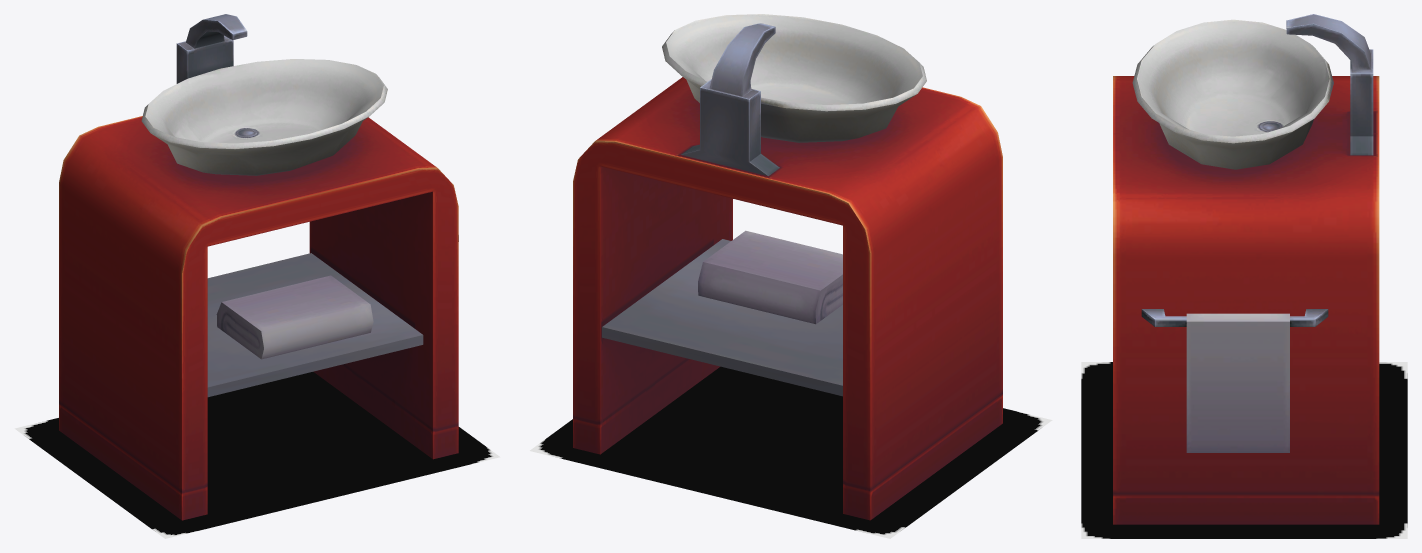
File: jj_ty_xishouchi01.FBX
3 views of the same model, side by side, from view 1: azimuth 30°, elevation 25°; view 2: azimuth 150°, elevation 25°; view 3: azimuth 270°, elevation 25° (orthographic). The views are drawn at different scales.
Parts seen in each view (by area): view 1: jj_ty_xishouchi01, shadow; view 2: jj_ty_xishouchi01, shadow; view 3: jj_ty_xishouchi01, shadow.
Part boxes in pixels (x1=…): jj_ty_xishouchi01: x1=59, y1=14, x2=458, y2=520; shadow: x1=14, y1=372, x2=500, y2=538; jj_ty_xishouchi01: x1=573, y1=14, x2=1002, y2=520; shadow: x1=530, y1=366, x2=1052, y2=538; jj_ty_xishouchi01: x1=1113, y1=14, x2=1379, y2=524; shadow: x1=1081, y1=362, x2=1407, y2=538.
Size of the model in its own units: 93.43 by 108 by 72.77.
